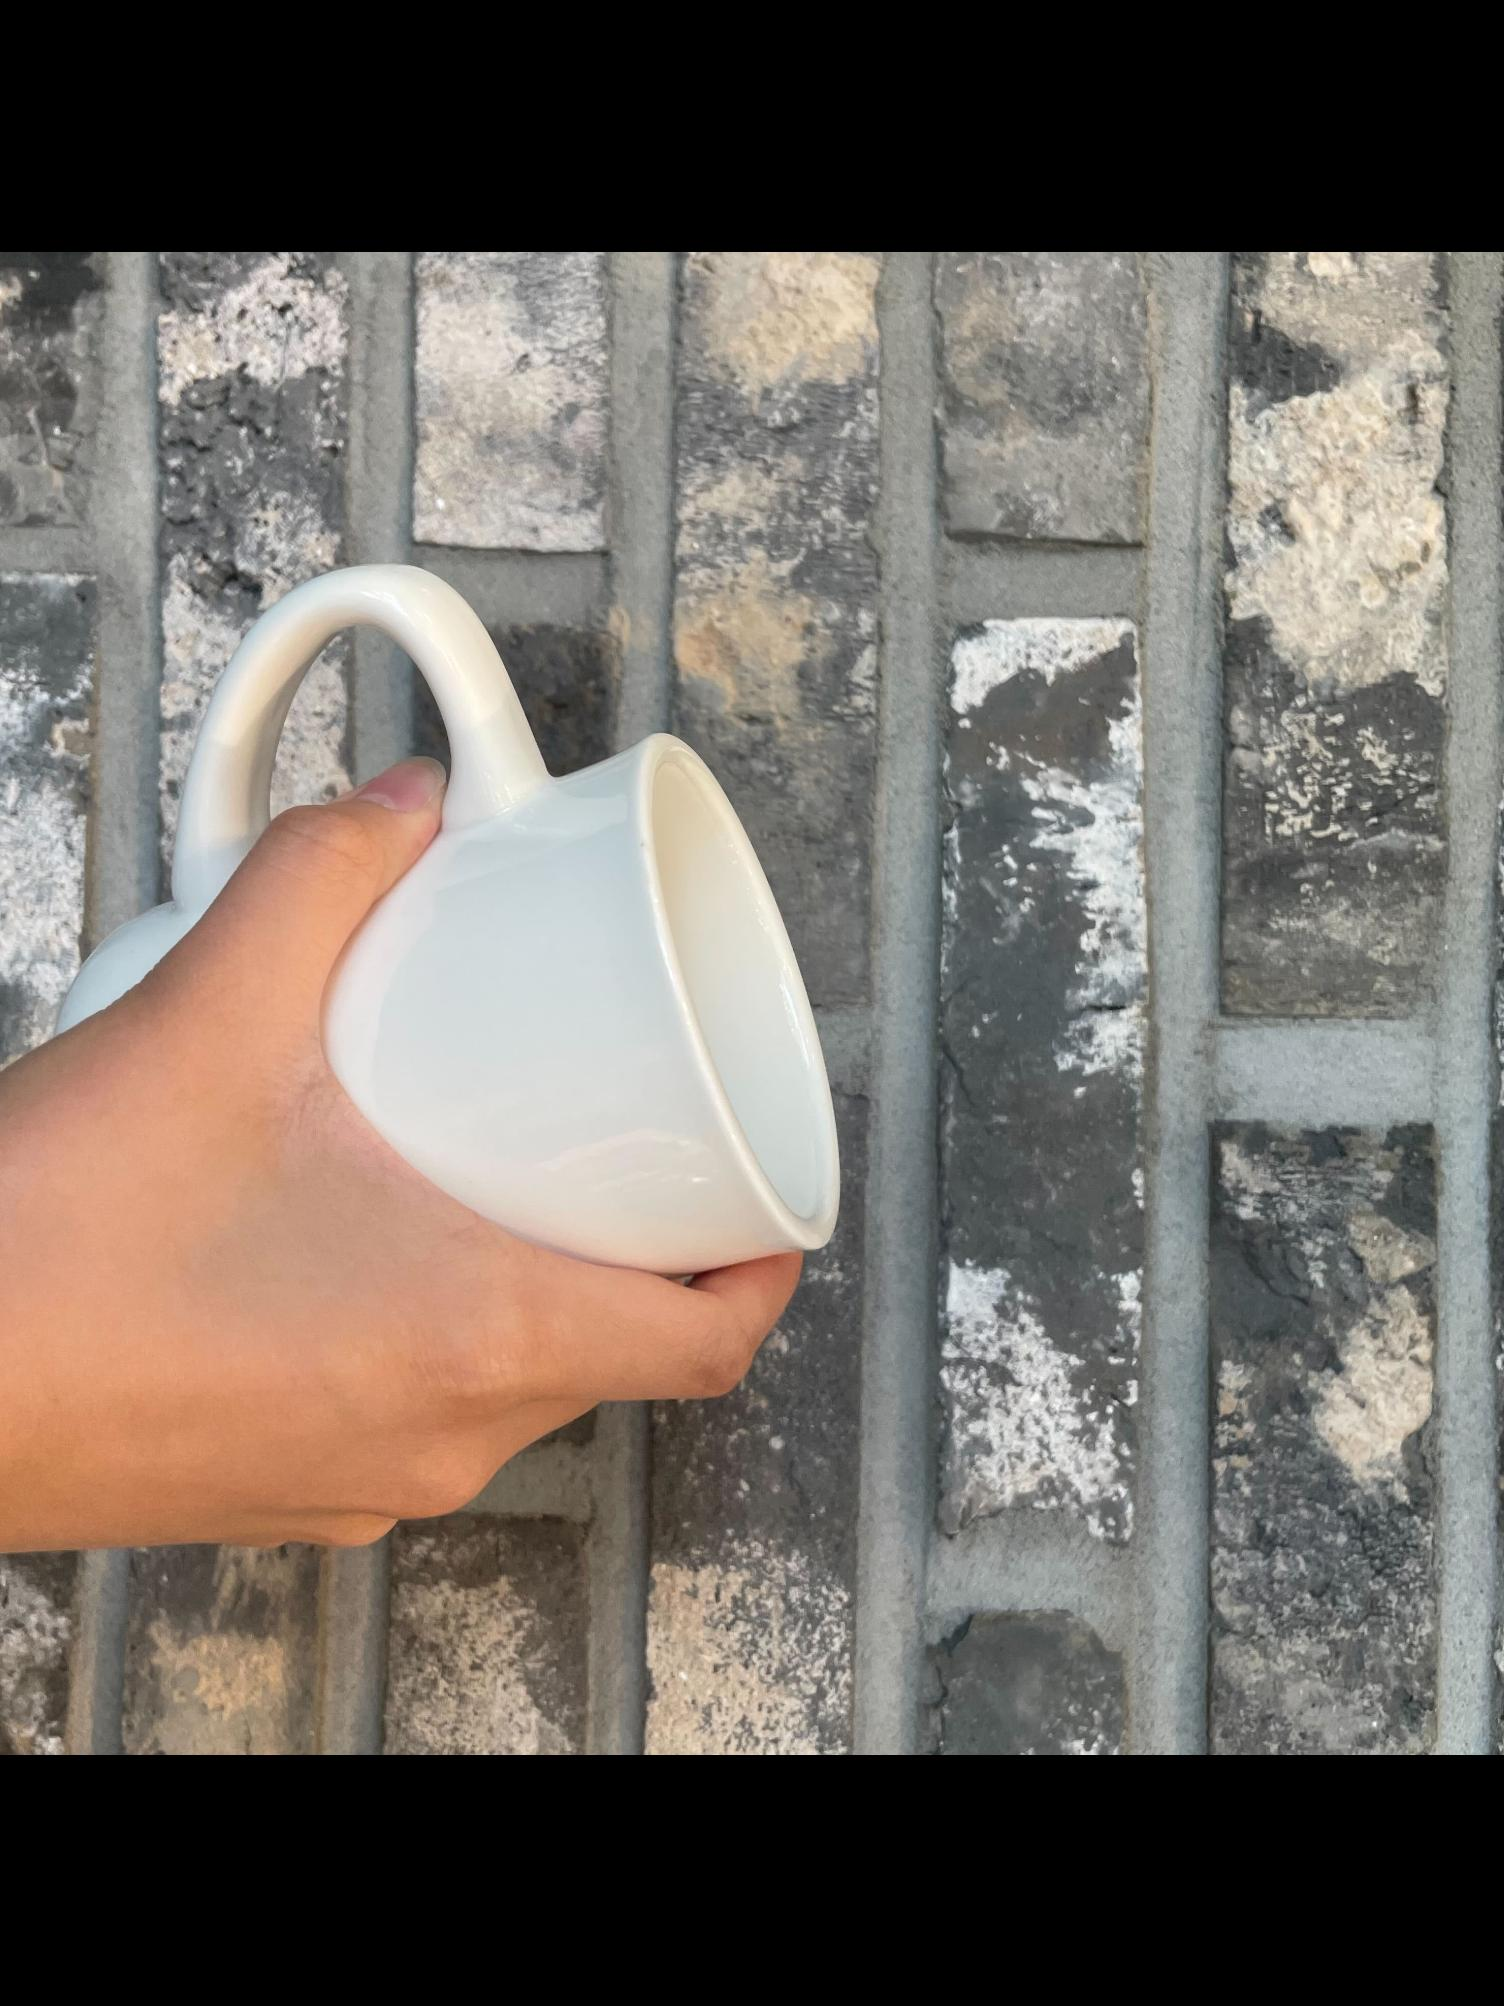cup: (0, 554, 861, 1590)
